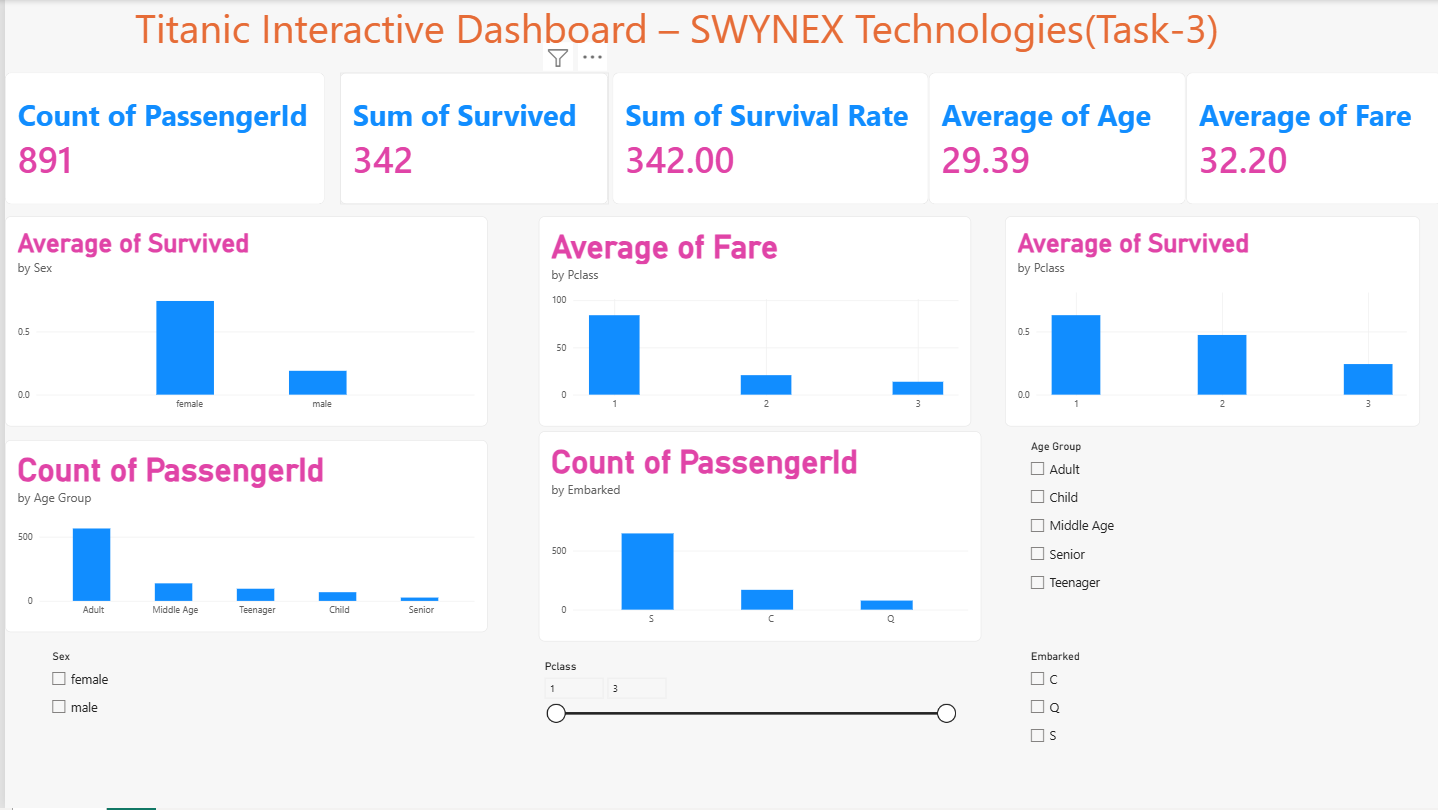

The page's visual inventory and layout, read from the dashboard file:
{"tool":"powerbi","page":{"name":"Page 1","canvas":[1920,1080],"ordinal":0},"visuals":[{"type":"cardVisual","fields":{"Data":["CountNonNull(train.PassengerId)"]},"box":[0,96.8,427.5,177],"z":0},{"type":"cardVisual","fields":{"Data":["Sum(train.Survived)"]},"box":[447.5,96.8,359,177],"z":1000},{"type":"cardVisual","fields":{"Data":["Sum(train.Survival Rate)"]},"box":[811.5,96.8,422.5,177],"z":2000},{"type":"cardVisual","fields":{"Data":["Avg(train.Age)"]},"box":[1234,96.8,344,177],"z":3000},{"type":"cardVisual","fields":{"Data":["Avg(train.Fare)"]},"box":[1577.9,96.8,342.3,177],"z":4000},{"type":"clusteredColumnChart","fields":{"Category":["train.Sex"],"Y":["Avg(train.Survived)"]},"box":[0,288.9,644.5,280.5],"z":5000},{"type":"clusteredColumnChart","fields":{"Y":["Avg(train.Survived)"],"Category":["train.Pclass"]},"box":[1335.8,288.9,554.4,280.5],"z":6000},{"type":"clusteredColumnChart","fields":{"Category":["train.Embarked"],"Y":["CountNonNull(train.PassengerId)"]},"box":[713,576.1,591.1,280.5],"z":7000},{"type":"clusteredColumnChart","fields":{"Category":["train.Age Group"],"Y":["CountNonNull(train.PassengerId)"]},"box":[0,587.8,644.5,257.1],"z":8000},{"type":"clusteredColumnChart","fields":{"Y":["Avg(train.Fare)"],"Category":["train.Pclass"]},"box":[713,288.9,577.7,280.5],"z":9000},{"type":"slicer","fields":{"Values":["train.Sex"]},"box":[55.1,868.3,467.5,162],"z":10000},{"type":"slicer","fields":{"Values":["train.Pclass"]},"box":[713,881.6,561,178.7],"z":11000},{"type":"slicer","fields":{"Values":["train.Embarked"]},"box":[1362.5,868.3,467.5,188.7],"z":12000},{"type":"slicer","fields":{"Values":["train.Age Group"]},"box":[1362.5,587.8,467.5,242.1],"z":13000},{"type":"textbox","box":[0,868.3,644.5,212.1],"z":14000},{"type":"textbox","box":[493,899,467,181],"z":15000},{"type":"textbox","box":[173.7,0,1621.3,78.5],"z":16000}]}

Visuals, with their boxes in screenshot pixels (x1, y1, x2, y2), scaled from the page's 1920x1080 canvas onto the 1438x810 screenshot:
cardVisual - CountNonNull(train.PassengerId): Rect(0, 73, 320, 205)
cardVisual - Sum(train.Survived): Rect(335, 73, 604, 205)
cardVisual - Sum(train.Survival Rate): Rect(608, 73, 924, 205)
cardVisual - Avg(train.Age): Rect(924, 73, 1182, 205)
cardVisual - Avg(train.Fare): Rect(1182, 73, 1437, 205)
clusteredColumnChart - train.Sex x Avg(train.Survived): Rect(0, 217, 483, 427)
clusteredColumnChart - Avg(train.Survived) x train.Pclass: Rect(1000, 217, 1416, 427)
clusteredColumnChart - train.Embarked x CountNonNull(train.PassengerId): Rect(534, 432, 977, 642)
clusteredColumnChart - train.Age Group x CountNonNull(train.PassengerId): Rect(0, 441, 483, 634)
clusteredColumnChart - Avg(train.Fare) x train.Pclass: Rect(534, 217, 967, 427)
slicer - train.Sex: Rect(41, 651, 391, 773)
slicer - train.Pclass: Rect(534, 661, 954, 795)
slicer - train.Embarked: Rect(1020, 651, 1371, 793)
slicer - train.Age Group: Rect(1020, 441, 1371, 622)
textbox: Rect(0, 651, 483, 809)
textbox: Rect(369, 674, 719, 809)
textbox: Rect(130, 0, 1344, 59)
